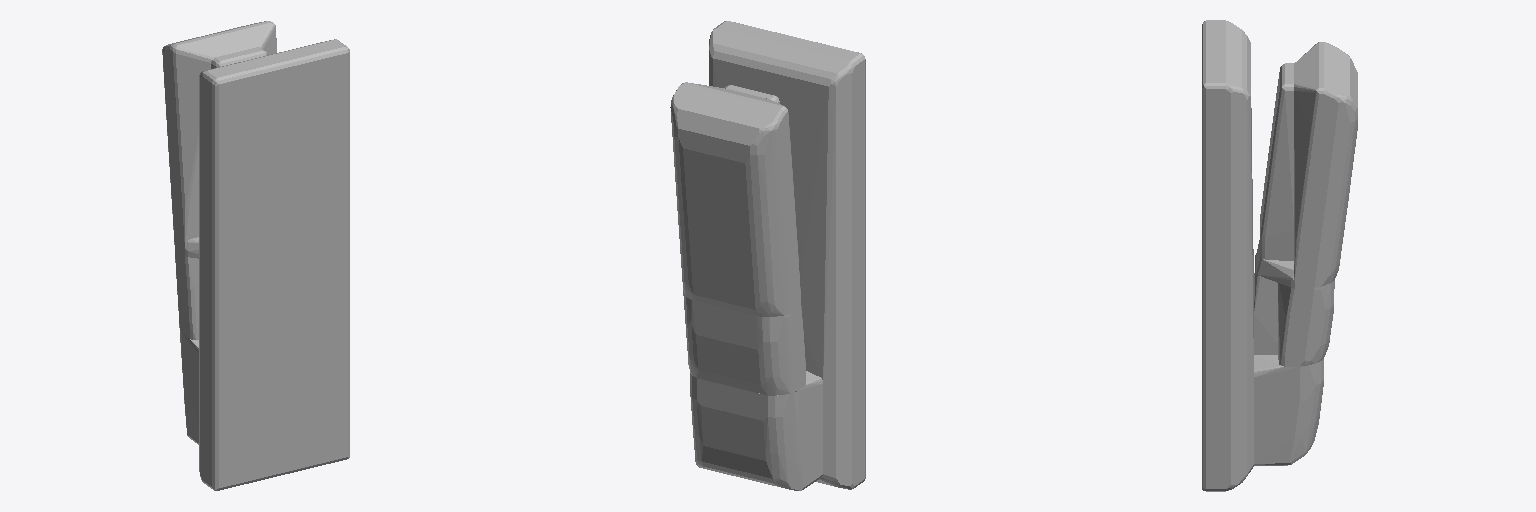
robot.urdf — root:
<robot name="root">
  <link name="link_coacd_convex_piece_0">
    <inertial>
      <origin xyz="0 0 0" rpy="0 0 0"/>
      <inertia ixx="4.99E-02" ixy="-5.82E-07" ixz="1.06E-07" iyy="1.22E-02" iyz="-1.67E-04" izz="4.78E-02"/>
    </inertial>
    <visual>
      <origin xyz="0 0 0" rpy="0 0 0"/>
      <geometry>
        <mesh filename="coacd_convex_piece_0.obj" scale="1.0000E+00 1.0000E+00 1.0000E+00"/>
      </geometry>
      <material name="">
        <color rgba="7.50E-01 7.50E-01 7.50E-01 1"/>
      </material>
    </visual>
    <collision>
      <origin xyz="0 0 0" rpy="0 0 0"/>
      <geometry>
        <mesh filename="coacd_convex_piece_0.obj" scale="1.0000E+00 1.0000E+00 1.0000E+00"/>
      </geometry>
    </collision>
  </link>
  <link name="link_coacd_convex_piece_1">
    <inertial>
      <origin xyz="0 0 0" rpy="0 0 0"/>
      <inertia ixx="1.41E-02" ixy="9.98E-07" ixz="1.12E-08" iyy="6.71E-04" iyz="-5.23E-04" izz="1.48E-02"/>
    </inertial>
    <visual>
      <origin xyz="0 0 0" rpy="0 0 0"/>
      <geometry>
        <mesh filename="coacd_convex_piece_1.obj" scale="1.0000E+00 1.0000E+00 1.0000E+00"/>
      </geometry>
      <material name="">
        <color rgba="7.50E-01 7.50E-01 7.50E-01 1"/>
      </material>
    </visual>
    <collision>
      <origin xyz="0 0 0" rpy="0 0 0"/>
      <geometry>
        <mesh filename="coacd_convex_piece_1.obj" scale="1.0000E+00 1.0000E+00 1.0000E+00"/>
      </geometry>
    </collision>
  </link>
  <joint name="link_coacd_convex_piece_1_joint" type="fixed">
    <origin xyz="0 0 0" rpy="0 0 0"/>
    <parent link="link_coacd_convex_piece_0"/>
    <child link="link_coacd_convex_piece_1"/>
  </joint>
  <link name="link_coacd_convex_piece_2">
    <inertial>
      <origin xyz="0 0 0" rpy="0 0 0"/>
      <inertia ixx="1.57E-02" ixy="3.69E-06" ixz="-1.38E-06" iyy="2.56E-03" iyz="4.34E-03" izz="1.51E-02"/>
    </inertial>
    <visual>
      <origin xyz="0 0 0" rpy="0 0 0"/>
      <geometry>
        <mesh filename="coacd_convex_piece_2.obj" scale="1.0000E+00 1.0000E+00 1.0000E+00"/>
      </geometry>
      <material name="">
        <color rgba="7.50E-01 7.50E-01 7.50E-01 1"/>
      </material>
    </visual>
    <collision>
      <origin xyz="0 0 0" rpy="0 0 0"/>
      <geometry>
        <mesh filename="coacd_convex_piece_2.obj" scale="1.0000E+00 1.0000E+00 1.0000E+00"/>
      </geometry>
    </collision>
  </link>
  <joint name="link_coacd_convex_piece_2_joint" type="fixed">
    <origin xyz="0 0 0" rpy="0 0 0"/>
    <parent link="link_coacd_convex_piece_1"/>
    <child link="link_coacd_convex_piece_2"/>
  </joint>
  <link name="link_coacd_convex_piece_3">
    <inertial>
      <origin xyz="0 0 0" rpy="0 0 0"/>
      <inertia ixx="1.38E-03" ixy="2.42E-07" ixz="-2.13E-07" iyy="5.59E-04" iyz="-5.09E-04" izz="1.60E-03"/>
    </inertial>
    <visual>
      <origin xyz="0 0 0" rpy="0 0 0"/>
      <geometry>
        <mesh filename="coacd_convex_piece_3.obj" scale="1.0000E+00 1.0000E+00 1.0000E+00"/>
      </geometry>
      <material name="">
        <color rgba="7.50E-01 7.50E-01 7.50E-01 1"/>
      </material>
    </visual>
    <collision>
      <origin xyz="0 0 0" rpy="0 0 0"/>
      <geometry>
        <mesh filename="coacd_convex_piece_3.obj" scale="1.0000E+00 1.0000E+00 1.0000E+00"/>
      </geometry>
    </collision>
  </link>
  <joint name="link_coacd_convex_piece_3_joint" type="fixed">
    <origin xyz="0 0 0" rpy="0 0 0"/>
    <parent link="link_coacd_convex_piece_2"/>
    <child link="link_coacd_convex_piece_3"/>
  </joint>
  <link name="link_coacd_convex_piece_4">
    <inertial>
      <origin xyz="0 0 0" rpy="0 0 0"/>
      <inertia ixx="2.96E-04" ixy="8.03E-07" ixz="-1.29E-07" iyy="1.46E-05" iyz="5.76E-05" izz="3.38E-04"/>
    </inertial>
    <visual>
      <origin xyz="0 0 0" rpy="0 0 0"/>
      <geometry>
        <mesh filename="coacd_convex_piece_4.obj" scale="1.0000E+00 1.0000E+00 1.0000E+00"/>
      </geometry>
      <material name="">
        <color rgba="7.50E-01 7.50E-01 7.50E-01 1"/>
      </material>
    </visual>
    <collision>
      <origin xyz="0 0 0" rpy="0 0 0"/>
      <geometry>
        <mesh filename="coacd_convex_piece_4.obj" scale="1.0000E+00 1.0000E+00 1.0000E+00"/>
      </geometry>
    </collision>
  </link>
  <joint name="link_coacd_convex_piece_4_joint" type="fixed">
    <origin xyz="0 0 0" rpy="0 0 0"/>
    <parent link="link_coacd_convex_piece_3"/>
    <child link="link_coacd_convex_piece_4"/>
  </joint>
  <link name="link_coacd_convex_piece_5">
    <inertial>
      <origin xyz="0 0 0" rpy="0 0 0"/>
      <inertia ixx="-1.23E-05" ixy="-1.71E-08" ixz="4.74E-08" iyy="1.68E-05" iyz="-4.89E-06" izz="2.83E-05"/>
    </inertial>
    <visual>
      <origin xyz="0 0 0" rpy="0 0 0"/>
      <geometry>
        <mesh filename="coacd_convex_piece_5.obj" scale="1.0000E+00 1.0000E+00 1.0000E+00"/>
      </geometry>
      <material name="">
        <color rgba="7.50E-01 7.50E-01 7.50E-01 1"/>
      </material>
    </visual>
    <collision>
      <origin xyz="0 0 0" rpy="0 0 0"/>
      <geometry>
        <mesh filename="coacd_convex_piece_5.obj" scale="1.0000E+00 1.0000E+00 1.0000E+00"/>
      </geometry>
    </collision>
  </link>
  <joint name="link_coacd_convex_piece_5_joint" type="fixed">
    <origin xyz="0 0 0" rpy="0 0 0"/>
    <parent link="link_coacd_convex_piece_4"/>
    <child link="link_coacd_convex_piece_5"/>
  </joint>
  <link name="link_coacd_convex_piece_6">
    <inertial>
      <origin xyz="0 0 0" rpy="0 0 0"/>
      <inertia ixx="2.36E-03" ixy="2.80E-07" ixz="2.47E-08" iyy="-1.44E-06" iyz="3.23E-05" izz="2.50E-03"/>
    </inertial>
    <visual>
      <origin xyz="0 0 0" rpy="0 0 0"/>
      <geometry>
        <mesh filename="coacd_convex_piece_6.obj" scale="1.0000E+00 1.0000E+00 1.0000E+00"/>
      </geometry>
      <material name="">
        <color rgba="7.50E-01 7.50E-01 7.50E-01 1"/>
      </material>
    </visual>
    <collision>
      <origin xyz="0 0 0" rpy="0 0 0"/>
      <geometry>
        <mesh filename="coacd_convex_piece_6.obj" scale="1.0000E+00 1.0000E+00 1.0000E+00"/>
      </geometry>
    </collision>
  </link>
  <joint name="link_coacd_convex_piece_6_joint" type="fixed">
    <origin xyz="0 0 0" rpy="0 0 0"/>
    <parent link="link_coacd_convex_piece_5"/>
    <child link="link_coacd_convex_piece_6"/>
  </joint>
</robot>

--- What the picture shows (computed from the rendered views, not written in the file) ---
The picture shows the robot from 3 angles, left to right: view 1: azimuth 30°, elevation 25°; view 2: azimuth 150°, elevation 25°; view 3: azimuth 270°, elevation 25°; orthographic projection.
Model root with 7 links and 6 joints (6 fixed), rooted at link_coacd_convex_piece_0, posed every joint at zero.
Links seen in each view (by area): view 1: link_coacd_convex_piece_0, link_coacd_convex_piece_2, link_coacd_convex_piece_3, link_coacd_convex_piece_1, link_coacd_convex_piece_6; view 2: link_coacd_convex_piece_0, link_coacd_convex_piece_2, link_coacd_convex_piece_1, link_coacd_convex_piece_3; view 3: link_coacd_convex_piece_0, link_coacd_convex_piece_2, link_coacd_convex_piece_1, link_coacd_convex_piece_6, link_coacd_convex_piece_3, link_coacd_convex_piece_4, link_coacd_convex_piece_5.
Link boxes in pixels (x1=…): link_coacd_convex_piece_0: x1=199, y1=39, x2=349, y2=490; link_coacd_convex_piece_2: x1=162, y1=21, x2=276, y2=255; link_coacd_convex_piece_3: x1=175, y1=250, x2=198, y2=339; link_coacd_convex_piece_1: x1=180, y1=332, x2=198, y2=444; link_coacd_convex_piece_6: x1=211, y1=47, x2=266, y2=68; link_coacd_convex_piece_0: x1=709, y1=21, x2=865, y2=489; link_coacd_convex_piece_2: x1=670, y1=82, x2=800, y2=316; link_coacd_convex_piece_1: x1=690, y1=371, x2=822, y2=490; link_coacd_convex_piece_3: x1=683, y1=291, x2=805, y2=395; link_coacd_convex_piece_0: x1=1202, y1=20, x2=1253, y2=491; link_coacd_convex_piece_2: x1=1294, y1=42, x2=1357, y2=287; link_coacd_convex_piece_1: x1=1254, y1=355, x2=1323, y2=465; link_coacd_convex_piece_6: x1=1260, y1=63, x2=1293, y2=260; link_coacd_convex_piece_3: x1=1278, y1=280, x2=1334, y2=366; link_coacd_convex_piece_4: x1=1254, y1=255, x2=1277, y2=354; link_coacd_convex_piece_5: x1=1256, y1=240, x2=1293, y2=287.
Bounding box of the posed robot: 0.6168 × 0.6168 × 1.77 m (x, y, z).
Meshes: 7 distinct files referenced, 7 mesh visuals loaded (7 OBJ).
